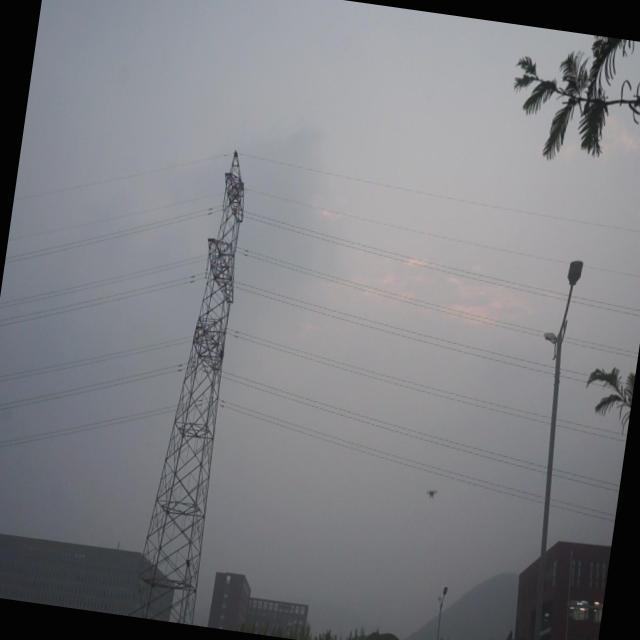drone: (424, 486, 440, 504)
